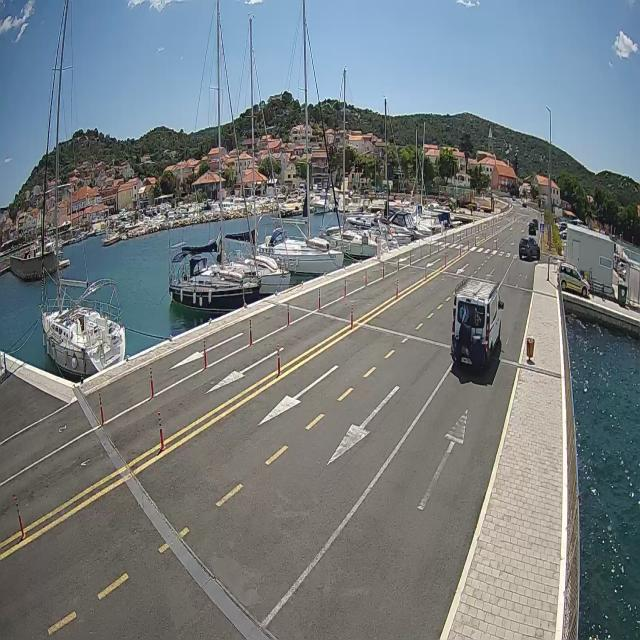car: (556, 251, 594, 301), (519, 230, 545, 266), (528, 218, 536, 240)
small truck: (438, 250, 518, 376)
